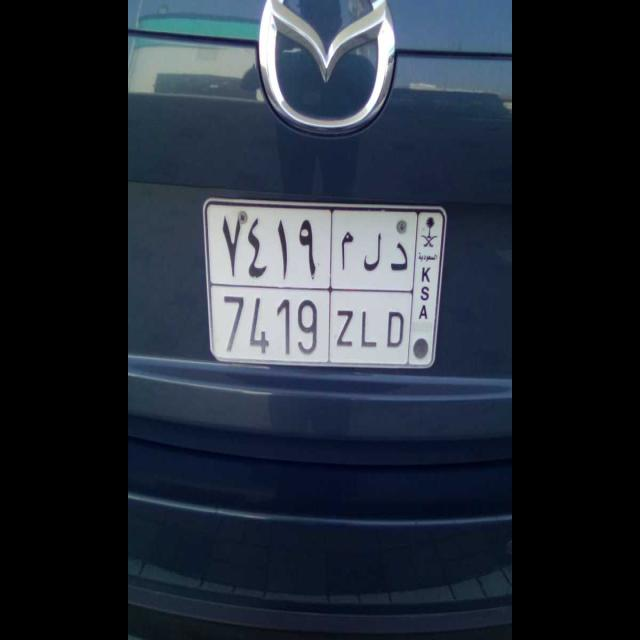license_plate: (213, 288, 410, 366)
